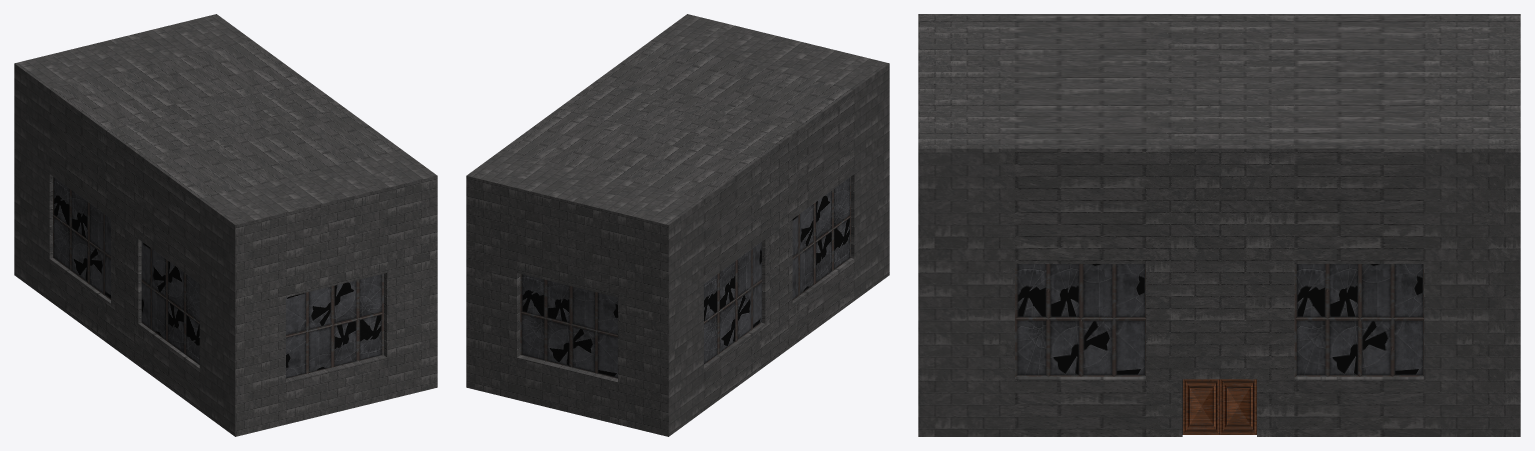
File: Edificio_2.glb
3 views of the same model, side by side, from view 1: azimuth 30°, elevation 25°; view 2: azimuth 150°, elevation 25°; view 3: azimuth 270°, elevation 25° (orthographic). The views are drawn at different scales.
Parts seen in each view (by area): view 1: Cube; view 2: Cube; view 3: Cube.
Part boxes in pixels (x1=…): Cube: x1=14, y1=14, x2=437, y2=436; Cube: x1=466, y1=14, x2=889, y2=436; Cube: x1=918, y1=14, x2=1520, y2=436.
Bounding box in the file's own units: 7.96 × 7.96 × 15.07.
Materials: 3 (3 with a texture image).
